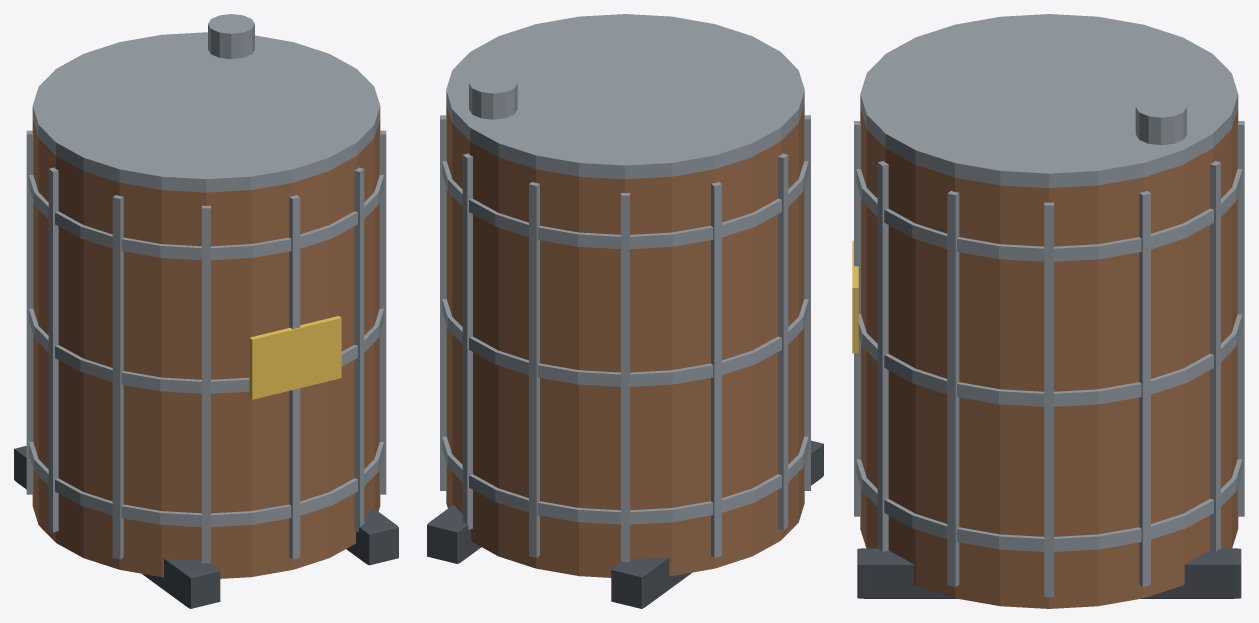
Rendered from fuel_tank.glb.
The picture shows the model from 3 angles, left to right: view 1: azimuth 30°, elevation 25°; view 2: azimuth 150°, elevation 25°; view 3: azimuth 270°, elevation 25°; orthographic projection. The views are drawn at different scales.
Visible parts, largest first — view 1: Tank, Top, HazardPlate, Band, Band.002, Rib.007, Rib.006, Rib.010, Band.001, Rib.009, Rib.008, Skid (+4 smaller); view 2: Tank, Top, Band, Band.001, Band.002, Rib.003, Rib.005, Rib.006, Rib.002, Rib.004, Skid, Rib.001 (+3 smaller); view 3: Tank, Top, Skid.001, Band.002, Band, Band.001, Rib.011, Rib.001, Rib.010, Rib.002, Rib, Rib.003 (+3 smaller).
Boxes of the visible parts, <box> form: Tank: <box>32,120,380,578</box>; Top: <box>32,32,380,192</box>; HazardPlate: <box>249,316,341,399</box>; Band: <box>29,442,383,527</box>; Band.002: <box>29,175,383,260</box>; Rib.007: <box>112,195,123,559</box>; Rib.006: <box>48,167,58,532</box>; Rib.010: <box>354,167,364,531</box>; Band.001: <box>29,308,383,393</box>; Rib.009: <box>289,195,300,559</box>; Rib.008: <box>202,205,210,563</box>; Skid: <box>14,446,220,608</box>; Tank: <box>446,105,804,577</box>; Top: <box>446,14,804,179</box>; Band: <box>442,436,808,524</box>; Band.001: <box>442,299,808,386</box>; Band.002: <box>442,161,808,248</box>; Rib.003: <box>529,182,539,557</box>; Rib.005: <box>711,182,721,557</box>; Rib.006: <box>778,153,788,529</box>; Rib.002: <box>462,153,472,529</box>; Rib.004: <box>621,193,629,561</box>; Skid: <box>611,440,823,608</box>; Rib.001: <box>440,115,446,490</box>; Tank: <box>860,109,1238,608</box>; Top: <box>860,14,1238,188</box>; Skid.001: <box>857,548,1241,598</box>; Band.002: <box>856,169,1242,261</box>; Band: <box>856,459,1242,551</box>; Band.001: <box>858,314,1242,406</box>; Rib.011: <box>947,191,959,586</box>; Rib.001: <box>1139,191,1150,586</box>; Rib.010: <box>877,161,888,551</box>; Rib.002: <box>1210,161,1220,551</box>; Rib: <box>1044,202,1053,597</box>; Rib.003: <box>1237,121,1244,516</box>.
Bounding box in the file's own units: 2.44 × 3.29 × 2.45.
